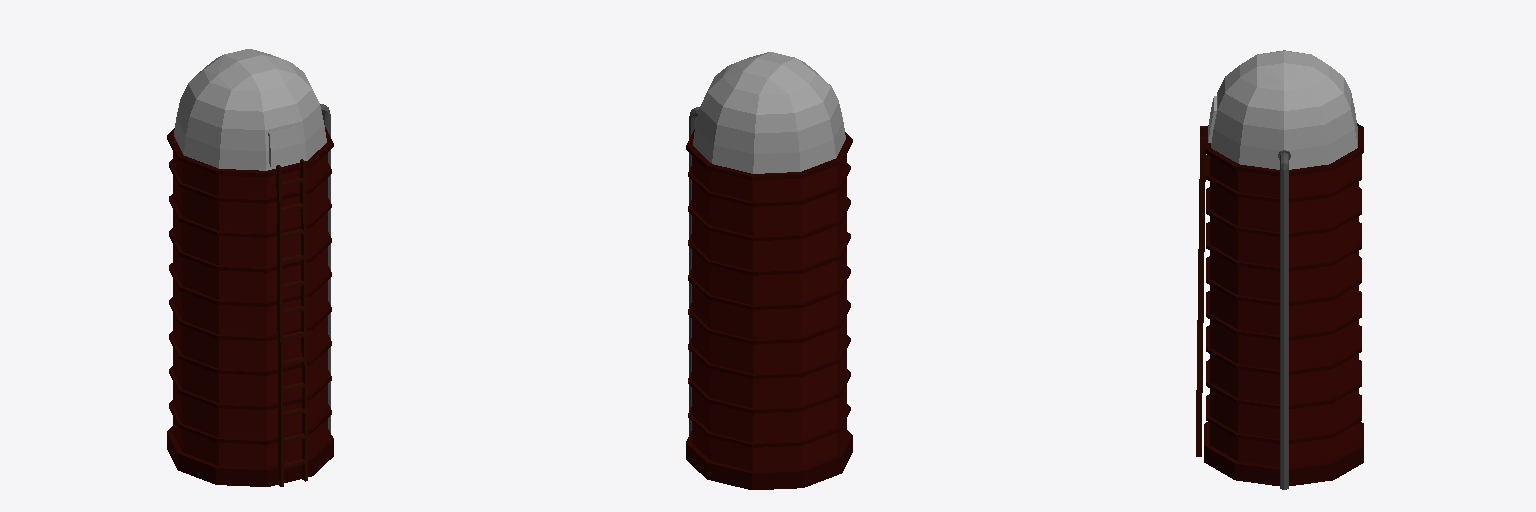
The model's file is Silo_Cylinder.obj.
The picture shows the model from 3 angles: view 1: azimuth 30°, elevation 25°; view 2: azimuth 150°, elevation 25°; view 3: azimuth 270°, elevation 25°; orthographic projection.
Visible parts, largest first — view 1: Silo_Cylinder.001; view 2: Silo_Cylinder.001; view 3: Silo_Cylinder.001.
Boxes of the visible parts, <box> form: Silo_Cylinder.001: <box>167,49,333,486</box>; Silo_Cylinder.001: <box>686,52,852,489</box>; Silo_Cylinder.001: <box>1196,50,1363,489</box>.
Size of the model in its own units: 3.67 by 9.07 by 3.51.